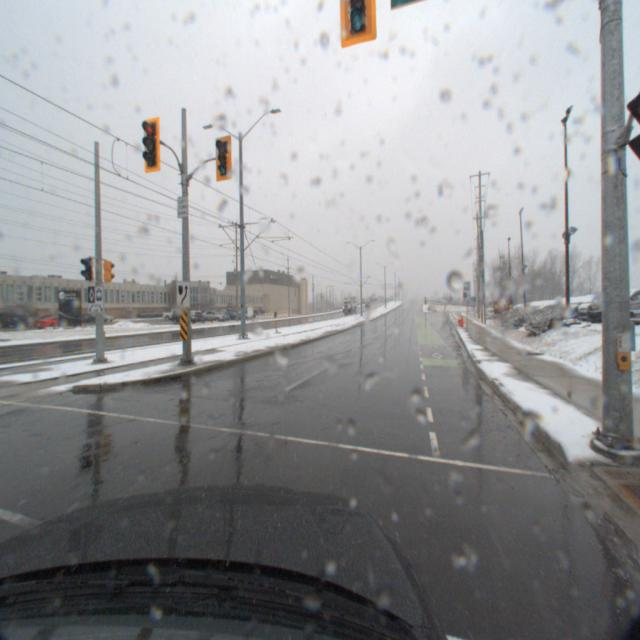Car: (549, 292, 628, 322)
